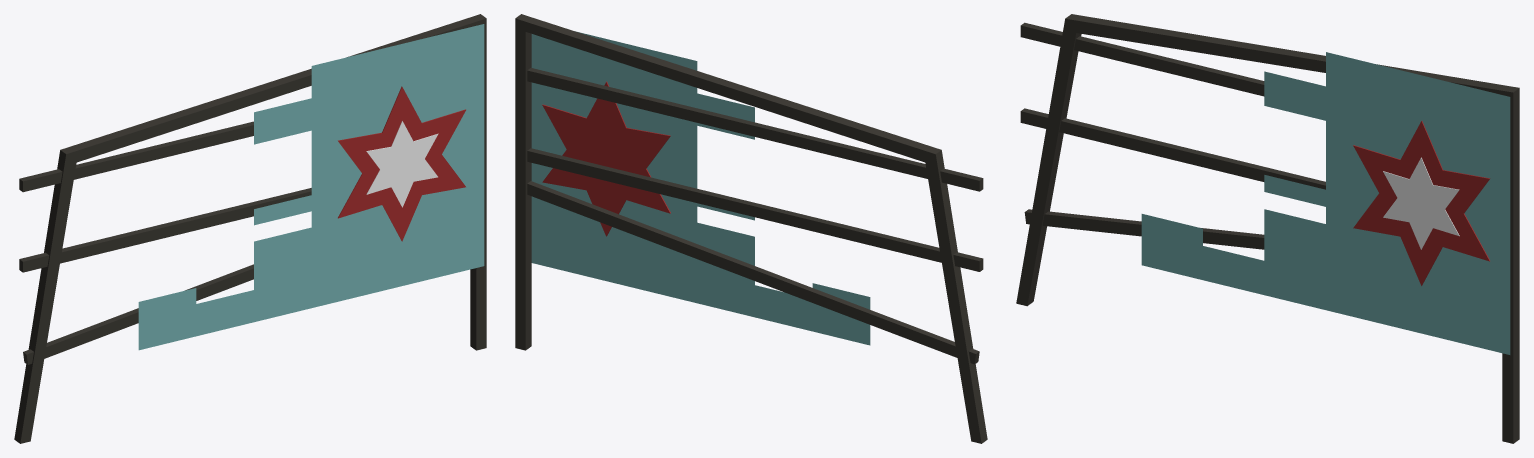
File: 13 Hoarding.FBX
The picture shows the model from 3 angles, left to right: view 1: azimuth 30°, elevation 25°; view 2: azimuth 150°, elevation 25°; view 3: azimuth 330°, elevation 25°; orthographic projection. The views are drawn at different scales.
Parts seen in each view (by area): view 1: Hoarding; view 2: Hoarding; view 3: Hoarding.
Boxes of the visible parts, x1=… form: Hoarding: x1=14, y1=14, x2=486, y2=443; Hoarding: x1=515, y1=14, x2=987, y2=443; Hoarding: x1=1016, y1=14, x2=1519, y2=443.
Bounding box in the file's own units: 2242 × 1515 × 60.03.
